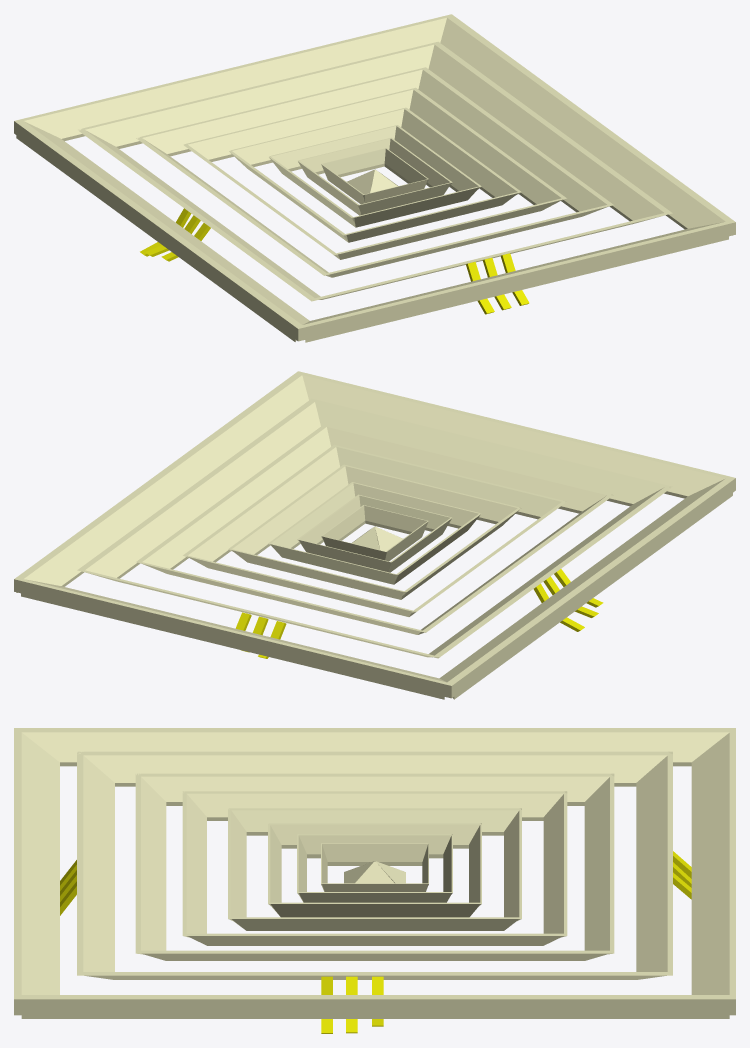
Rendered from Vent.fbx.
3 views of the same model, one above another, from view 1: azimuth 30°, elevation 25°; view 2: azimuth 150°, elevation 25°; view 3: azimuth 270°, elevation 25° (orthographic). The views are drawn at different scales.
Parts seen in each view (by area): view 1: pCube1, pasted__pCube1, pasted__pasted__pCube1, pasted__pasted__pasted__pCube1, pasted__pasted__pasted__pasted__pCube1, pasted__pasted__pasted__pasted__pasted__pCube1, pasted__pasted__pasted__pasted__pasted__pasted__pCube1, pasted__pasted__pasted__pasted__pasted__pasted__pasted__pCub, pasted__pasted__pasted__pasted__pasted__pasted__pasted__past; view 2: pCube1, pasted__pCube1, pasted__pasted__pCube1, pasted__pasted__pasted__pCube1, pasted__pasted__pasted__pasted__pCube1, pasted__pasted__pasted__pasted__pasted__pCube1, pasted__pasted__pasted__pasted__pasted__pasted__pCube1, pasted__pasted__pasted__pasted__pasted__pasted__pasted__pCub, pasted__pasted__pasted__pasted__pasted__pasted__pasted__past; view 3: pCube1, pasted__pCube1, pasted__pasted__pCube1, pasted__pasted__pasted__pCube1, pasted__pasted__pasted__pasted__pCube1, pasted__pasted__pasted__pasted__pasted__pCube1, pasted__pasted__pasted__pasted__pasted__pasted__pCube1, pasted__pasted__pasted__pasted__pasted__pasted__pasted__pCub, pasted__pasted__pasted__pasted__pasted__pasted__pasted__past.
Part boxes in pixels (left/top/right/bottom): pCube1: left=14, top=14, right=735, bottom=342; pasted__pCube1: left=77, top=41, right=672, bottom=301; pasted__pasted__pCube1: left=136, top=67, right=613, bottom=277; pasted__pasted__pasted__pCube1: left=183, top=87, right=566, bottom=259; pasted__pasted__pasted__pasted__pCube1: left=228, top=107, right=521, bottom=242; pasted__pasted__pasted__pasted__pasted__pCube1: left=268, top=125, right=481, bottom=227; pasted__pasted__pasted__pasted__pasted__pasted__pCube1: left=297, top=137, right=452, bottom=215; pasted__pasted__pasted__pasted__pasted__pasted__pasted__pCub: left=321, top=148, right=428, bottom=204; pasted__pasted__pasted__pasted__pasted__pasted__pasted__past: left=347, top=169, right=398, bottom=194; pCube1: left=14, top=371, right=735, bottom=699; pasted__pCube1: left=77, top=398, right=672, bottom=658; pasted__pasted__pCube1: left=136, top=424, right=613, bottom=634; pasted__pasted__pasted__pCube1: left=183, top=444, right=566, bottom=616; pasted__pasted__pasted__pasted__pCube1: left=228, top=464, right=521, bottom=599; pasted__pasted__pasted__pasted__pasted__pCube1: left=268, top=482, right=481, bottom=584; pasted__pasted__pasted__pasted__pasted__pasted__pCube1: left=297, top=494, right=452, bottom=572; pasted__pasted__pasted__pasted__pasted__pasted__pasted__pCub: left=321, top=505, right=428, bottom=561; pasted__pasted__pasted__pasted__pasted__pasted__pasted__past: left=351, top=526, right=402, bottom=551; pCube1: left=14, top=728, right=735, bottom=1018; pasted__pCube1: left=77, top=751, right=672, bottom=979; pasted__pasted__pCube1: left=135, top=773, right=614, bottom=960; pasted__pasted__pasted__pCube1: left=182, top=791, right=567, bottom=945; pasted__pasted__pasted__pasted__pCube1: left=228, top=808, right=521, bottom=930; pasted__pasted__pasted__pasted__pasted__pCube1: left=268, top=823, right=481, bottom=917; pasted__pasted__pasted__pasted__pasted__pasted__pCube1: left=297, top=834, right=452, bottom=902; pasted__pasted__pasted__pasted__pasted__pasted__pasted__pCub: left=321, top=843, right=428, bottom=891; pasted__pasted__pasted__pasted__pasted__pasted__pasted__past: left=344, top=861, right=405, bottom=883.
Size of the model in its own units: 19.14 by 1.72 by 21.05.
